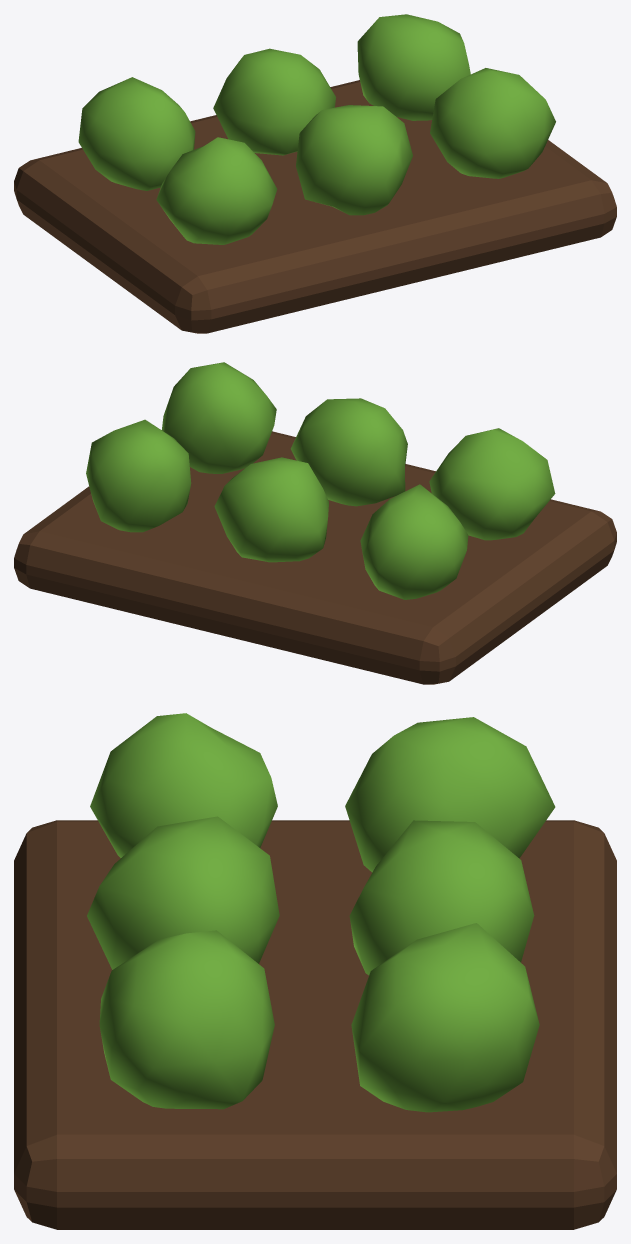
The model's file is prop_crops.glb.
3 views of the same model, one above another, from view 1: azimuth 30°, elevation 25°; view 2: azimuth 150°, elevation 25°; view 3: azimuth 270°, elevation 25° (orthographic). The views are drawn at different scales.
Visible parts, largest first — view 1: ridge, cab.004, cab.002, cab.001, cab, cab.003, cab.005; view 2: ridge, cab, cab.002, cab.003, cab.004, cab.005, cab.001; view 3: ridge, cab.005, cab.004, cab.001, cab.002, cab.003, cab.
Boxes of the visible parts, <box> form: ridge: <box>14,80,616,333</box>; cab.004: <box>430,68,555,178</box>; cab.002: <box>296,105,412,215</box>; cab.001: <box>78,77,195,190</box>; cab: <box>156,137,277,244</box>; cab.003: <box>213,48,335,155</box>; cab.005: <box>357,14,470,120</box>; ridge: <box>14,431,616,684</box>; cab: <box>429,428,555,540</box>; cab.002: <box>290,398,407,506</box>; cab.003: <box>214,457,328,562</box>; cab.004: <box>162,362,276,473</box>; cab.005: <box>86,419,191,532</box>; cab.001: <box>360,484,468,599</box>; ridge: <box>14,820,616,1229</box>; cab.005: <box>351,923,539,1112</box>; cab.004: <box>99,930,274,1109</box>; cab.001: <box>345,717,555,872</box>; cab.002: <box>87,816,279,969</box>; cab.003: <box>349,820,534,975</box>; cab: <box>90,713,277,857</box>.
Bounding box in the file's own units: 0.96 × 0.3196 × 0.7.
